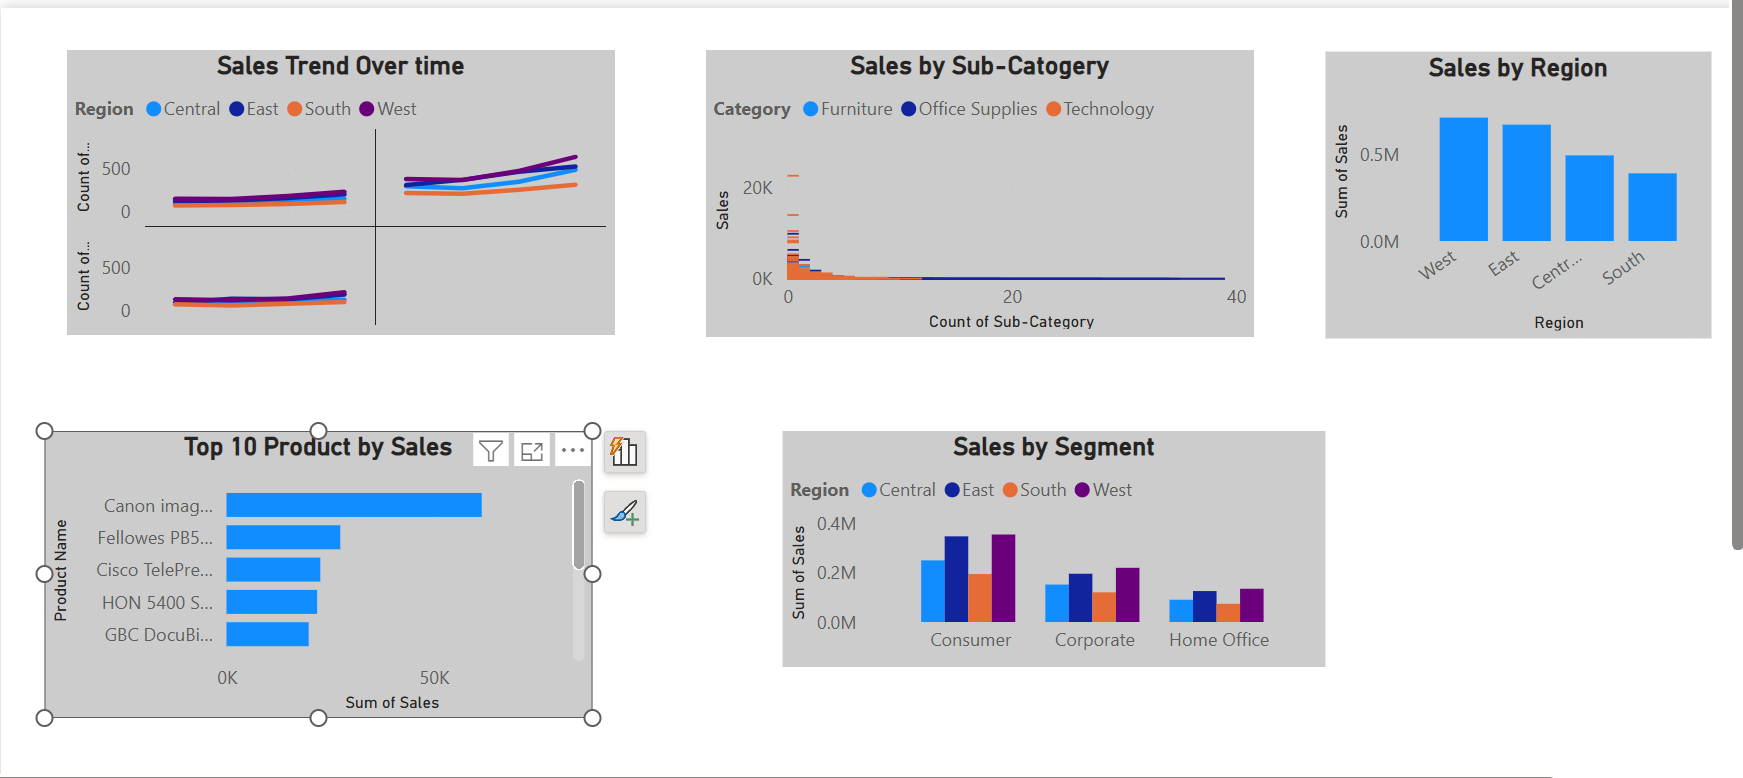

What the dashboard file says about the page in this screenshot:
{"tool":"powerbi","page":{"name":"Page 1","canvas":[1280,720],"ordinal":0},"visuals":[{"type":"lineChart","title":"Sales Trend Over time","fields":{"Category":["train.Order Date.Variation.Date Hierarchy.Year","train.Order Date.Variation.Date Hierarchy.Quarter","train.Order Date.Variation.Date Hierarchy.Month","train.Order Date.Variation.Date Hierarchy.Day"],"Y":["CountNonNull(train.State)"],"Series":["train.Region"],"Rows":["train.Category"]},"box":[44,28,365,190],"z":0},{"type":"barChart","title":"Top 10 Product by Sales","fields":{"Y":["Sum(train.Sales)"],"Category":["train.Product Name"]},"box":[29,282,365,191],"z":1000},{"type":"columnChart","title":"Sales by Region","fields":{"Category":["train.Region"],"Y":["Sum(train.Sales)"]},"box":[883,29,257,191],"z":2000},{"type":"barChart","title":"Sales by Sub-Catogery","fields":{"Y":["CountNonNull(train.Sub-Category)"],"Category":["train.Sales"],"Series":["train.Category"]},"box":[470,28,365,191],"z":3000},{"type":"clusteredColumnChart","title":"Sales by Segment ","fields":{"Category":["train.Segment"],"Y":["Sum(train.Sales)"],"Series":["train.Region"]},"box":[521,282,362,157],"z":4000}]}

Visuals, with their boxes on the page's 1280x720 design canvas (x1, y1, x2, y2). These are canvas units, not pixel positions in the 1743x778 screenshot, which may show the page scaled, cropped or inside an application window:
"Sales Trend Over time" lineChart: bbox=[44, 28, 409, 218]
"Top 10 Product by Sales" barChart: bbox=[29, 282, 394, 473]
"Sales by Region" columnChart: bbox=[883, 29, 1140, 220]
"Sales by Sub-Catogery" barChart: bbox=[470, 28, 835, 219]
"Sales by Segment " clusteredColumnChart: bbox=[521, 282, 883, 439]
